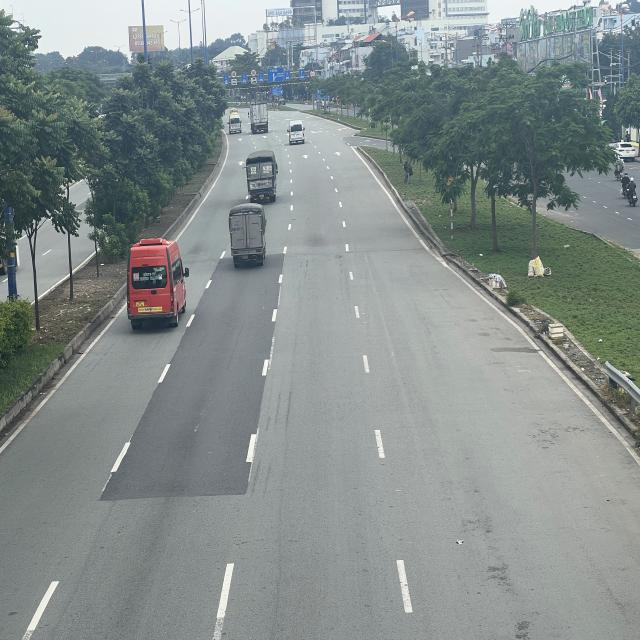coach: (127, 238, 189, 327)
truck: (228, 204, 266, 265), (246, 150, 278, 202), (249, 103, 270, 133)
van: (286, 121, 308, 146), (227, 114, 243, 136)
